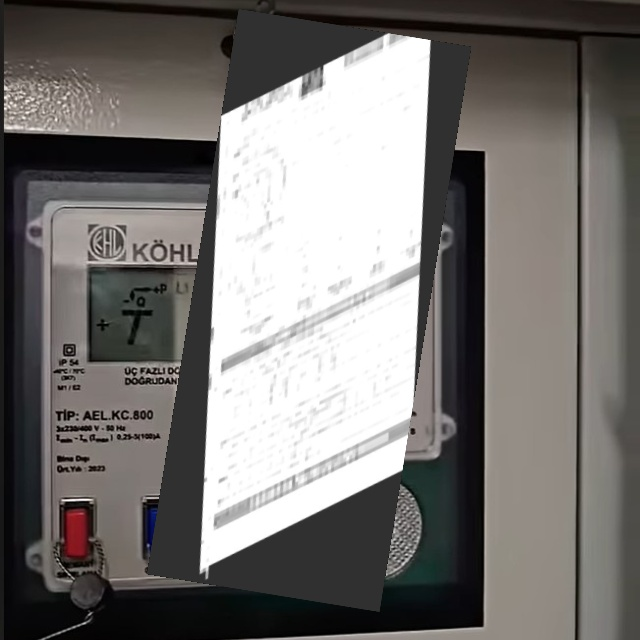electricity-bill: (146, 9, 470, 611)
